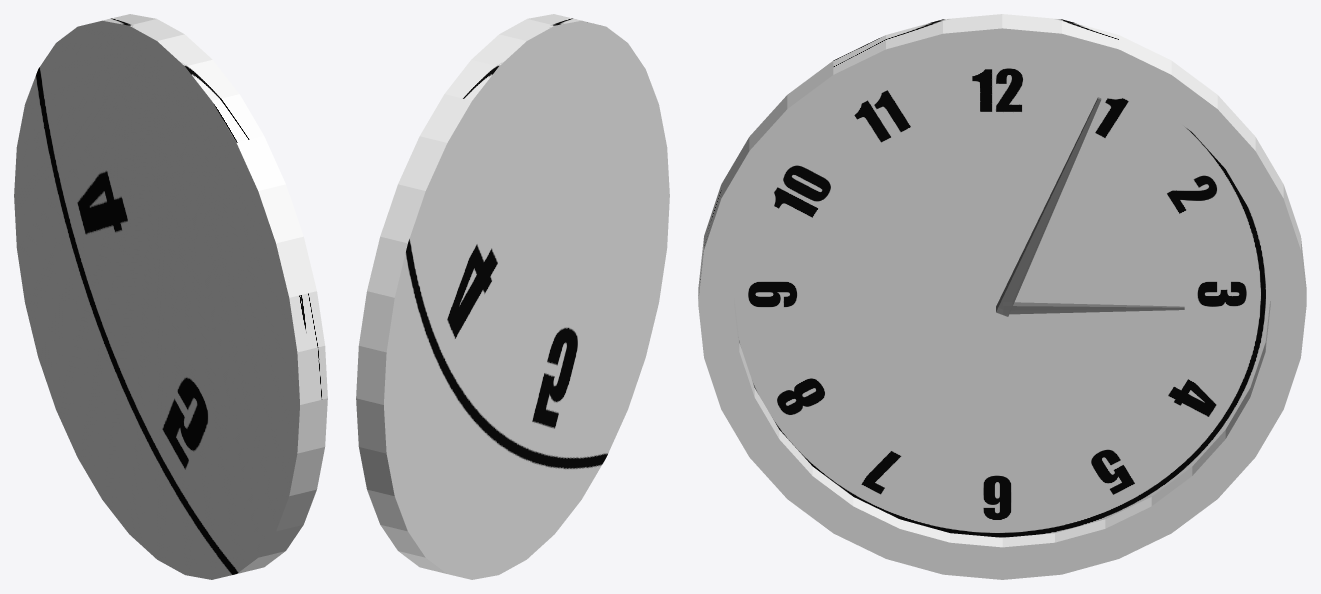
File: Reloj_Consul.fbx
3 views of the same model, side by side, from view 1: azimuth 30°, elevation 25°; view 2: azimuth 150°, elevation 25°; view 3: azimuth 270°, elevation 25° (orthographic). The views are drawn at different scales.
Parts seen in each view (by area): view 1: Cylinder.007; view 2: Cylinder.007; view 3: Cylinder.007.
Part boxes in pixels (x1=…): Cylinder.007: x1=14, y1=14, x2=327, y2=579; Cylinder.007: x1=356, y1=14, x2=669, y2=579; Cylinder.007: x1=698, y1=14, x2=1306, y2=579.
Bounding box in the file's own units: 3.68 × 43.35 × 43.35.
